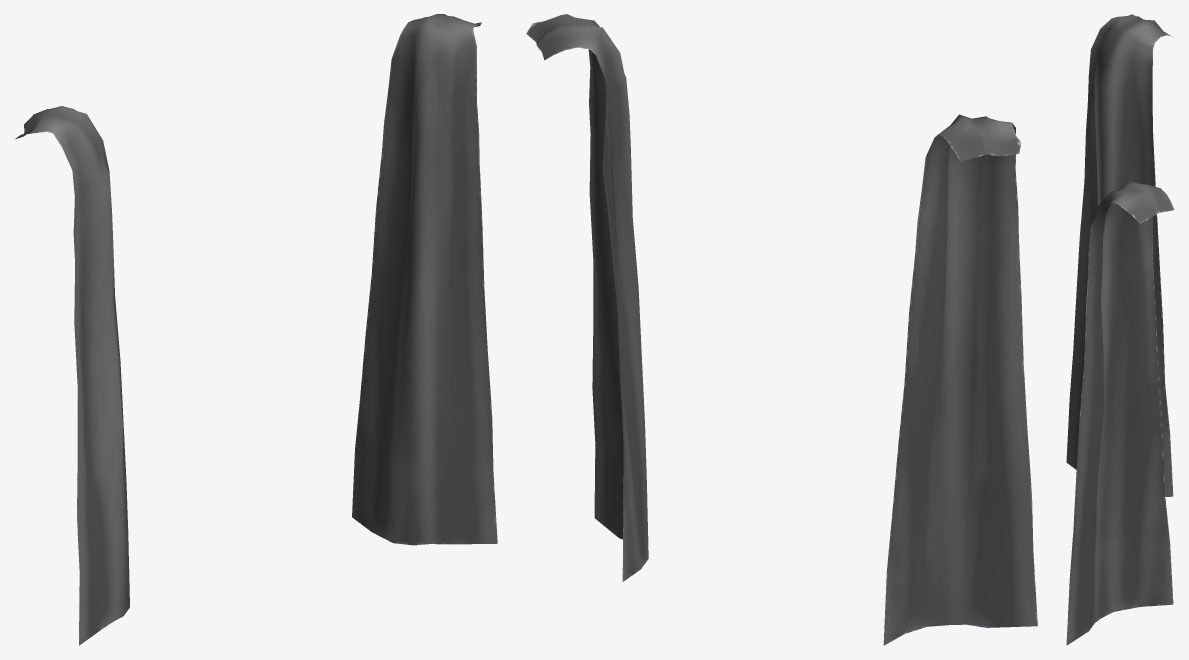
The model's file is clo_easterling02_v1_boots.fbx.
3 renders of one model, left to right at view 1: azimuth 30°, elevation 25°; view 2: azimuth 150°, elevation 25°; view 3: azimuth 270°, elevation 25°, orthographic. The views are drawn at different scales.
Parts seen in each view (by area): view 1: clo_easterling02_v1_boots; view 2: clo_easterling02_v1_boots; view 3: clo_easterling02_v1_boots.
Boxes of the visible parts, <box> form: clo_easterling02_v1_boots: <box>15,14,497,645</box>; clo_easterling02_v1_boots: <box>526,14,1037,645</box>; clo_easterling02_v1_boots: <box>1066,14,1174,645</box>.
Size of the model in its own units: 0.2214 by 0.0496 by 0.2282.
Materials: 1 (1 with a texture image).
